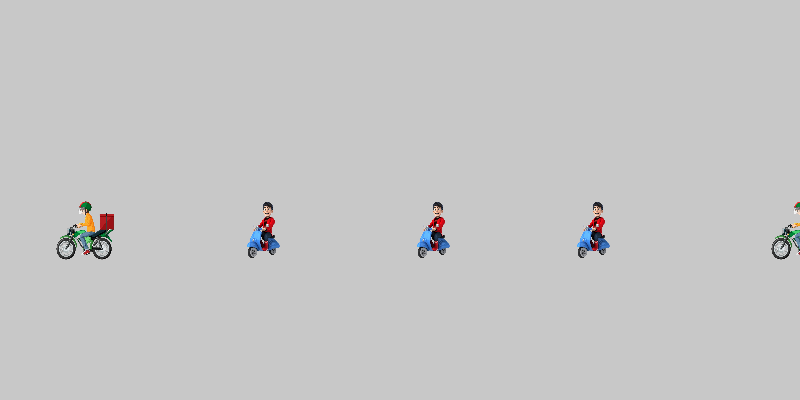helmet: (55, 200, 115, 260), (770, 200, 800, 260)
no_helmet: (235, 200, 295, 260), (405, 200, 465, 260), (565, 200, 625, 260)
